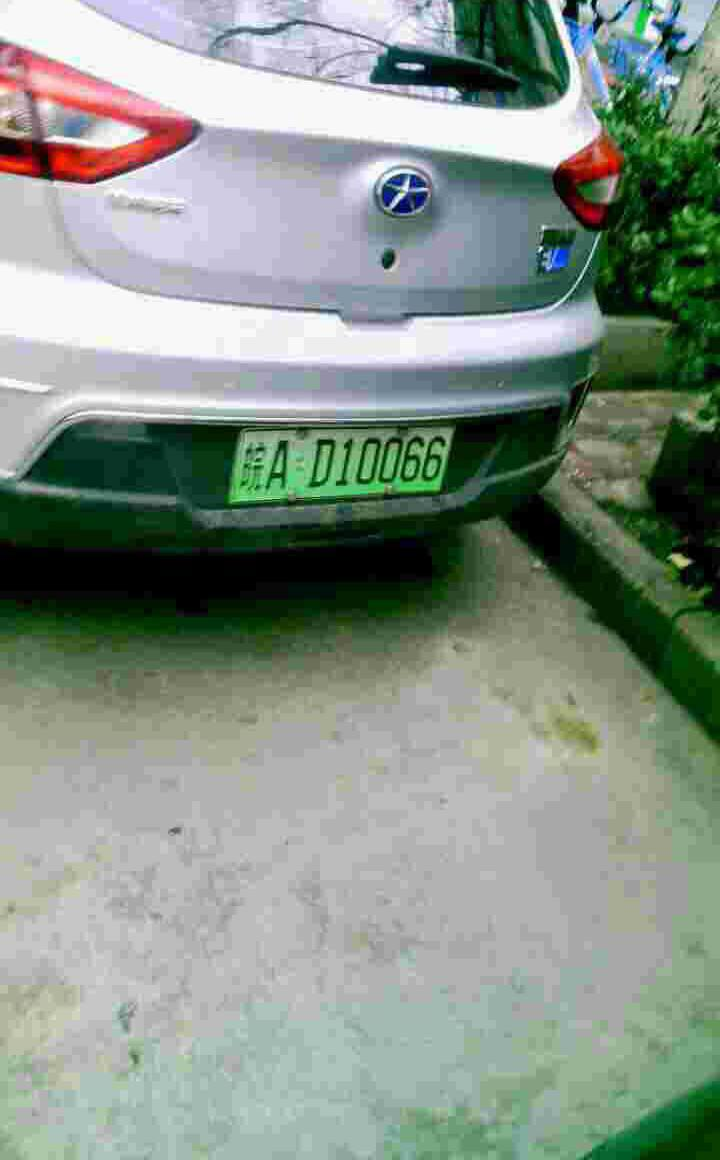car: (238, 427, 449, 500)
